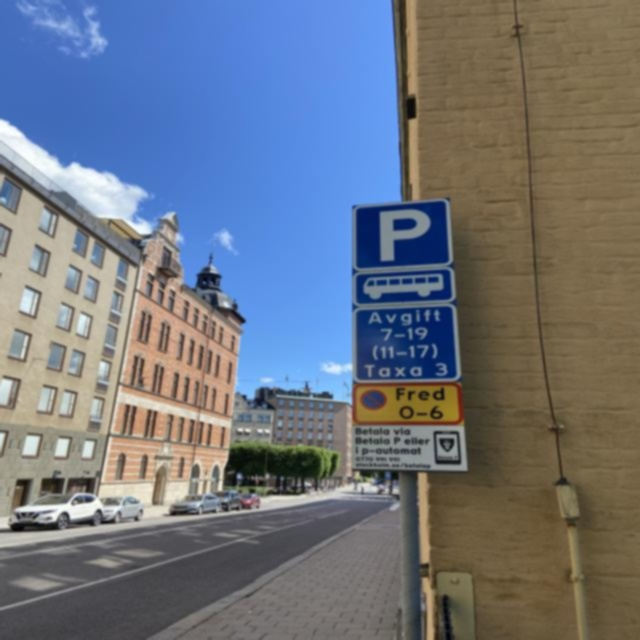P-skylt: (351, 195, 450, 272)
